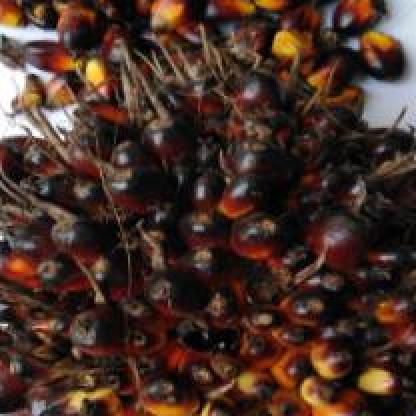underripe: (0, 34, 416, 416)
